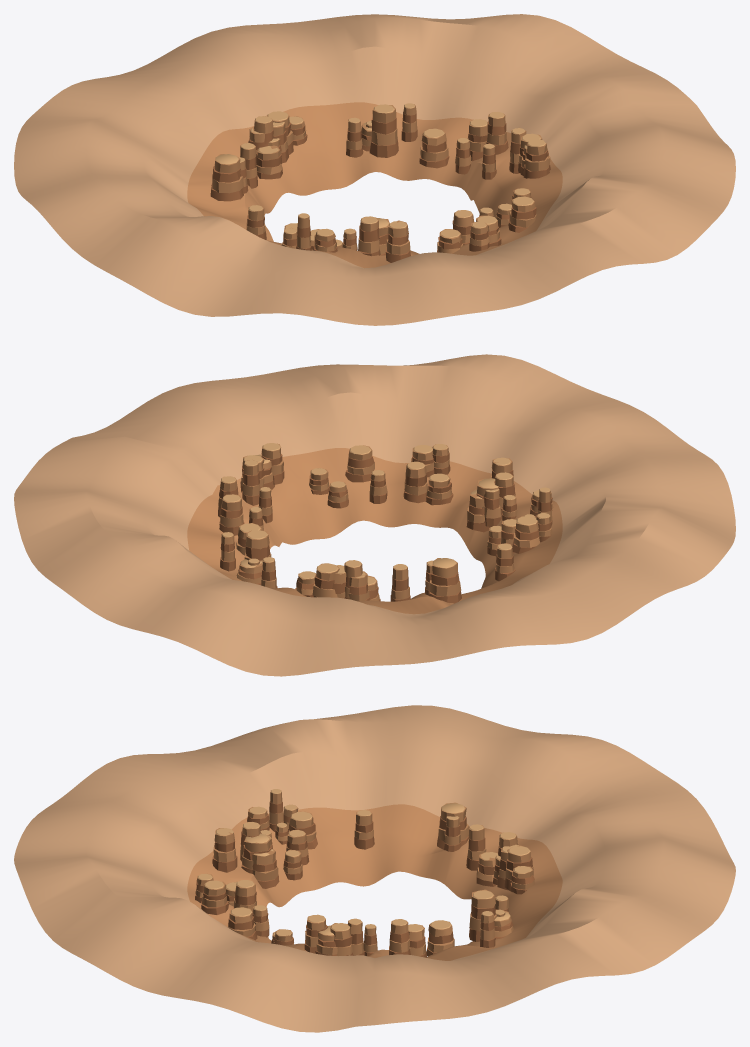
The model's file is Canyon_Backdrop.fbx.
The picture shows the model from 3 angles, top to bottom: view 1: azimuth 30°, elevation 25°; view 2: azimuth 150°, elevation 25°; view 3: azimuth 270°, elevation 25°; orthographic projection.
Parts seen in each view (by area): view 1: Canyon_Backdrop; view 2: Canyon_Backdrop; view 3: Canyon_Backdrop.
Part boxes in pixels (x1,y1,x2,y2): Canyon_Backdrop: [14, 14, 735, 325]; Canyon_Backdrop: [14, 354, 735, 676]; Canyon_Backdrop: [14, 705, 735, 1032].
Size of the model in its own units: 300 by 44.3 by 300.
